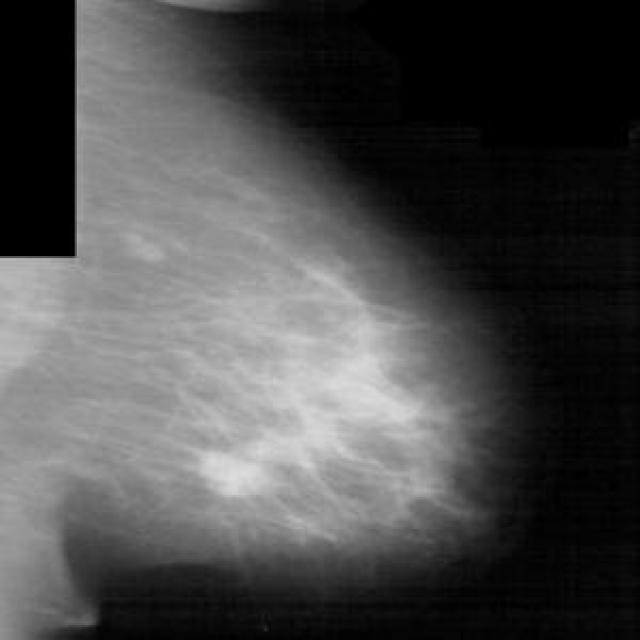tumor: (182, 291, 456, 532)
